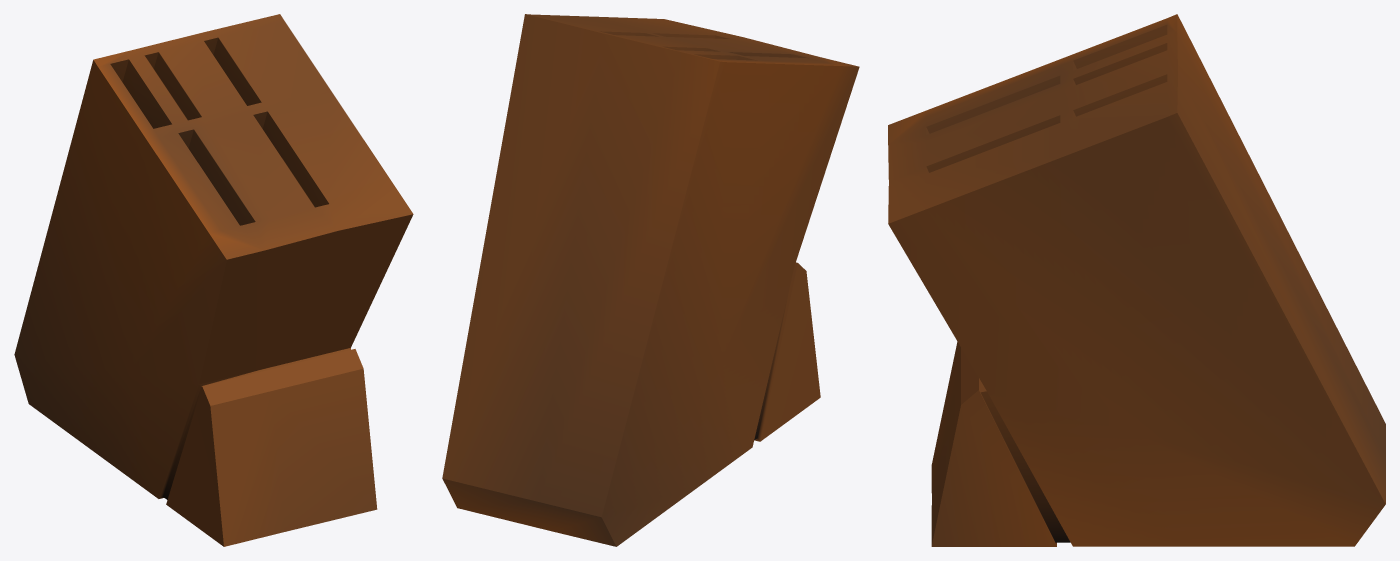
File: KnifeHolder_mesh_vc.fbx
3 renders of one model, left to right at view 1: azimuth 30°, elevation 25°; view 2: azimuth 150°, elevation 25°; view 3: azimuth 270°, elevation 25°, orthographic. The views are drawn at different scales.
Visible parts, largest first — view 1: pCube1; view 2: pCube1; view 3: pCube1.
Part boxes in pixels (x1,y1,x2,y2): pCube1: (14,14,413,546); pCube1: (442,14,859,546); pCube1: (888,14,1385,546).
Bounding box in the file's own units: 184 × 384 × 391.
